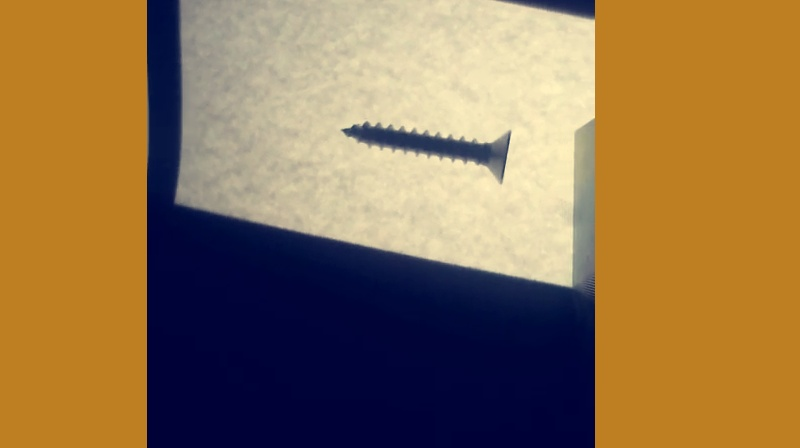S001: (339, 114, 513, 188)
